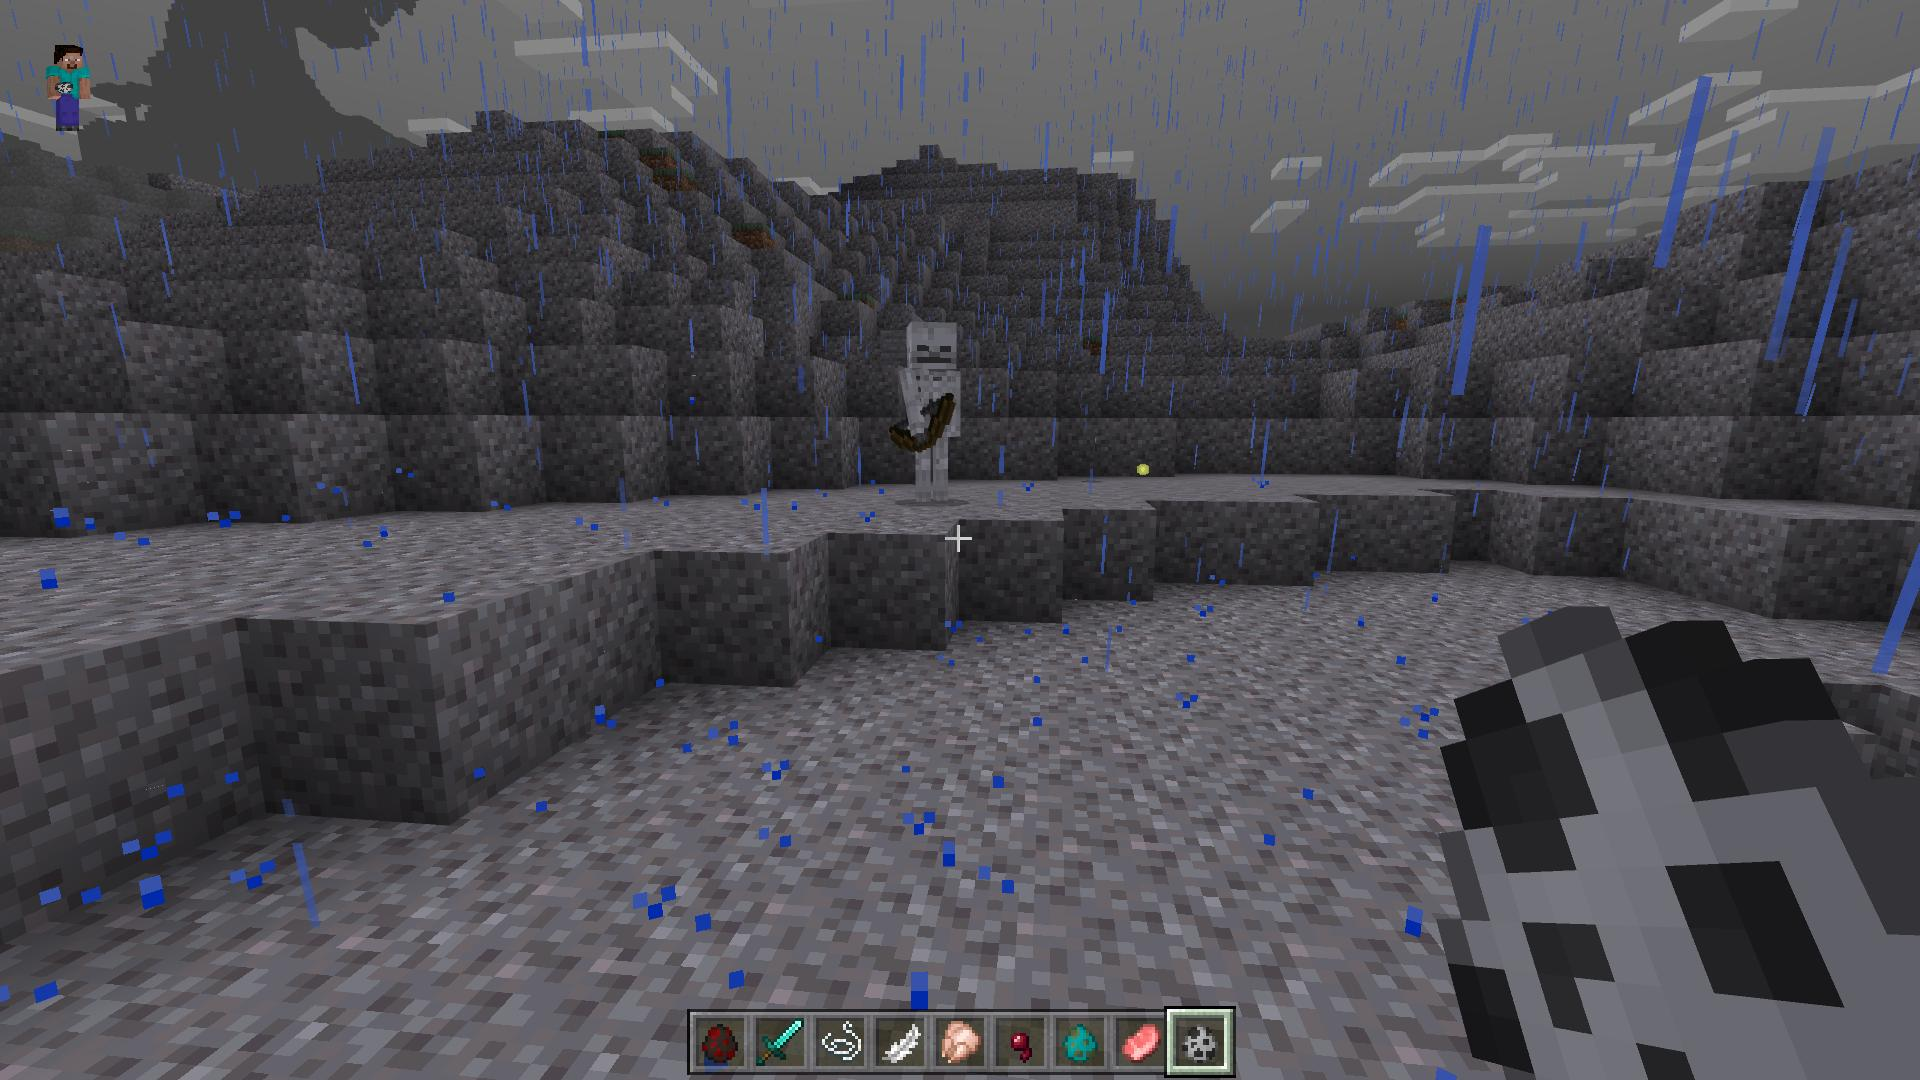skeleton: (885, 314, 971, 505)
